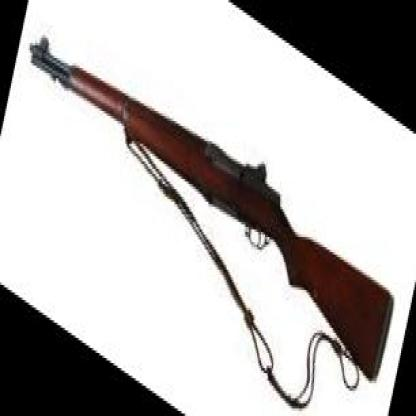rifle: (11, 0, 410, 396)
